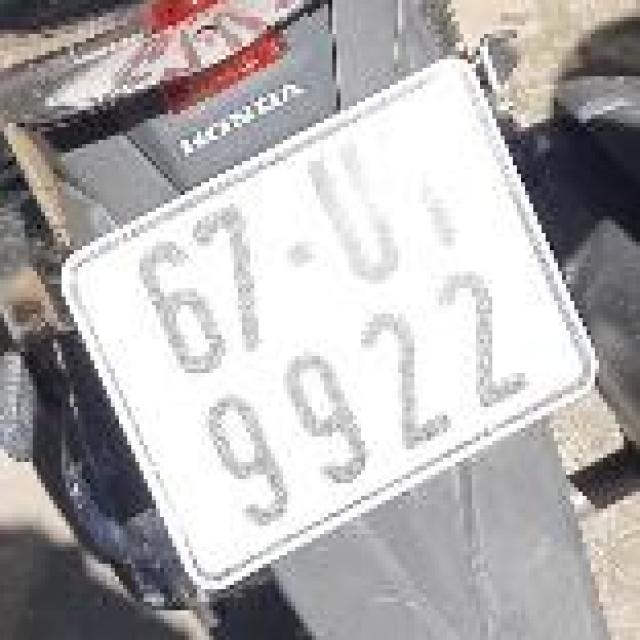1: (371, 105, 477, 280)
2: (423, 251, 547, 429), (350, 300, 458, 471)
6: (117, 224, 244, 391)
7: (176, 182, 309, 372)
9: (266, 341, 388, 506), (191, 379, 307, 549)
U: (283, 121, 421, 307)
